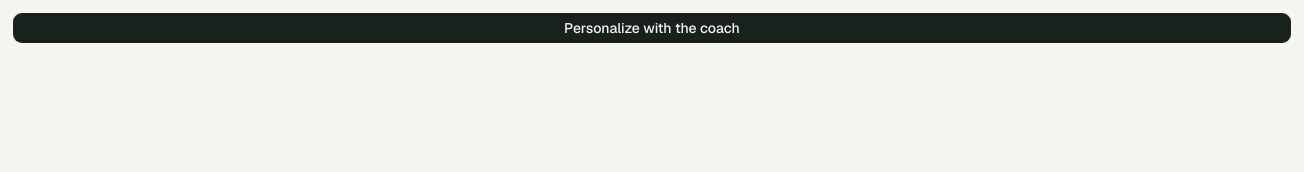
Test case: PersonalizeButton › shows a cooldown as an alert
The width and height of the screenshot is (1304, 172).
Step 1. Click the button "Personalize with the coach" → x=652, y=28, box [12,12,1292,44]
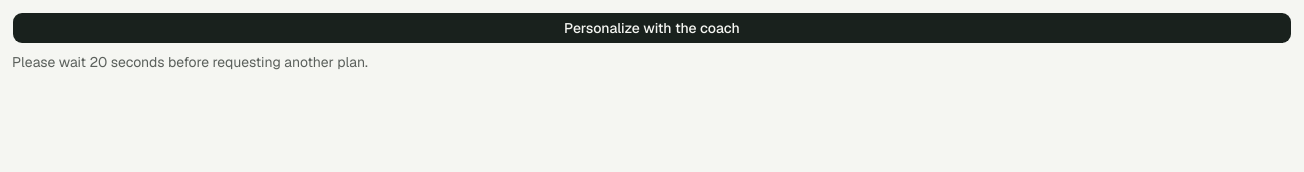
Expected: the message shows "Please wait 20 seconds", [12,53,368,71]
